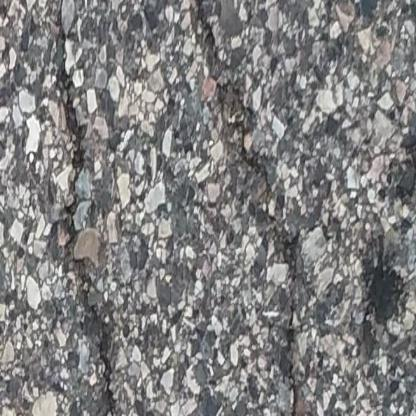Cracks: (181, 0, 316, 416), (55, 4, 120, 416)
